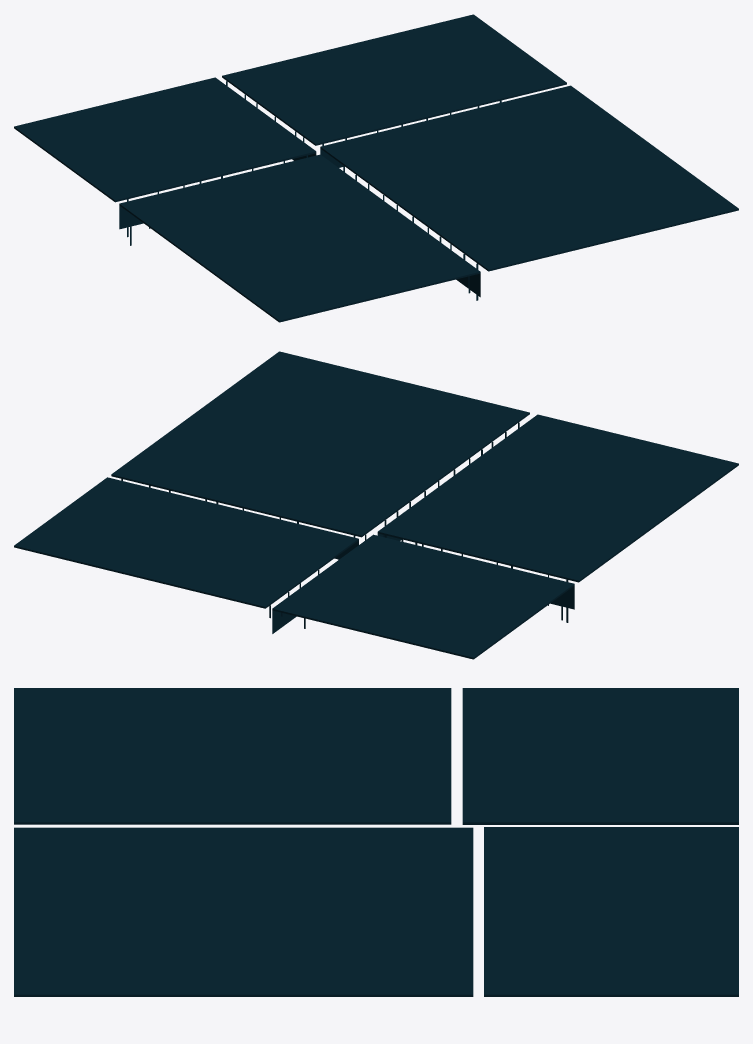
File: floor_v2_8.glb
3 renders of one model, top to bottom at view 1: azimuth 30°, elevation 25°; view 2: azimuth 150°, elevation 25°; view 3: azimuth 270°, elevation 25°, orthographic. The views are drawn at different scales.
Parts seen in each view (by area): view 1: terraces_plates, terraces_skirt; view 2: terraces_plates, terraces_skirt; view 3: terraces_plates.
Part boxes in pixels (x1=…): terraces_plates: x1=14, y1=14, x2=738, y2=322; terraces_skirt: x1=119, y1=149, x2=480, y2=297; terraces_plates: x1=14, y1=351, x2=738, y2=659; terraces_skirt: x1=272, y1=533, x2=574, y2=633; terraces_plates: x1=14, y1=688, x2=738, y2=996.
Bounding box in the file's own units: 8 × 0.8417 × 8.
